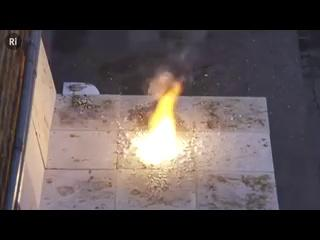Fire: (134, 88, 188, 165)
